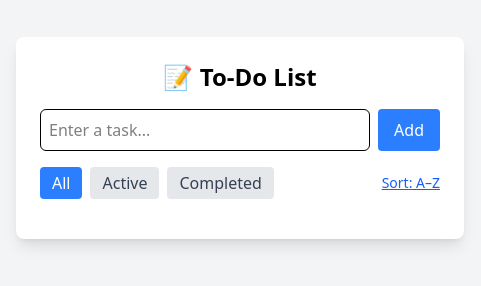
Test: To-Do App › adds a new task
The image size is (481, 286).
Type "Test Task" into the field with placeholder "Enter a task..." at (205,130), box [40,109,370,151]
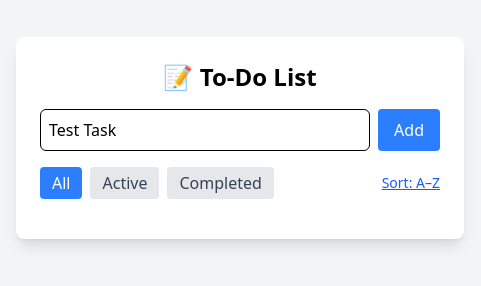
Click the button "Add" at (409,130), box [378,109,440,151]
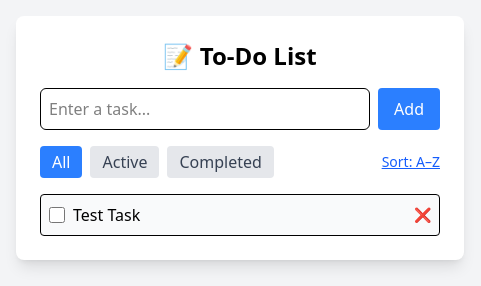
Result: the text "Test Task" is shown at [73,203,140,227]
